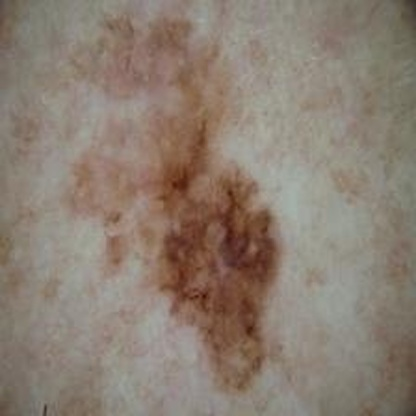malignant: (157, 160, 281, 377)
